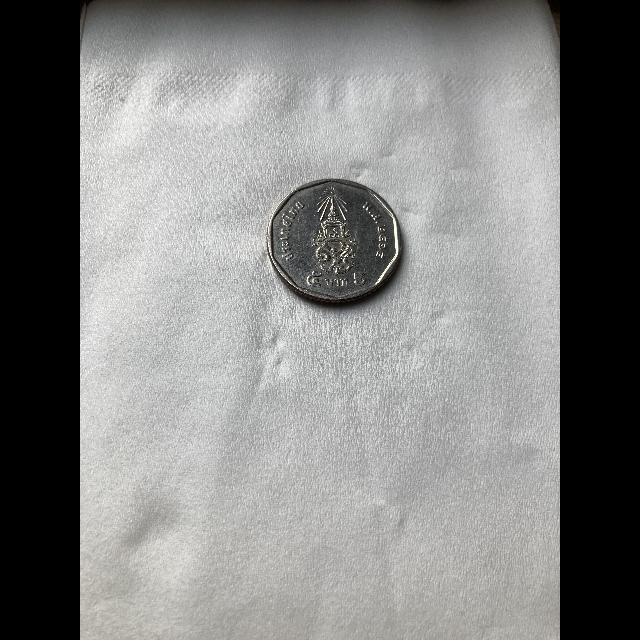5 Bath: (270, 177, 403, 305)
